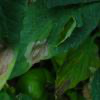Tomato leaf late blight: (12, 2, 100, 72)
